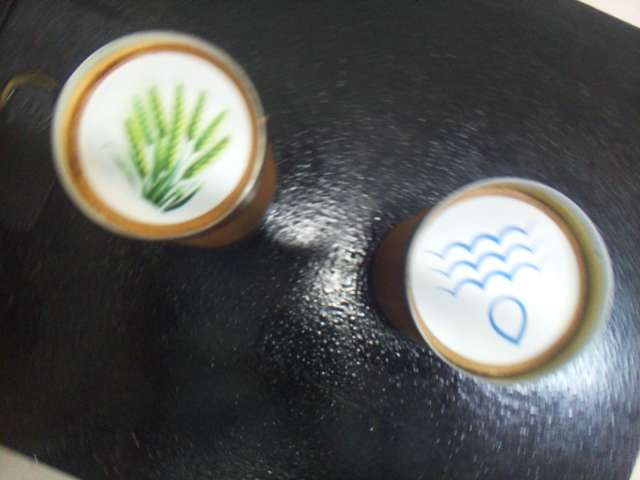water_barrel: (415, 218, 556, 350)
wheat_barrel: (94, 72, 240, 219)
